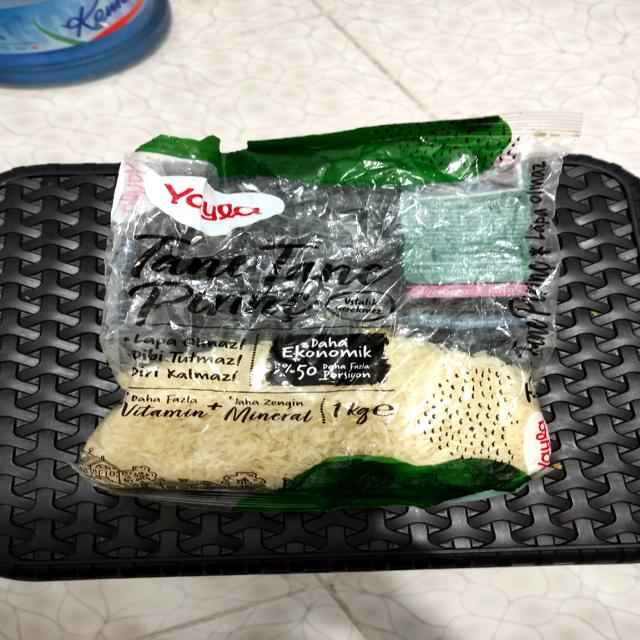rice: (80, 145, 576, 507)
